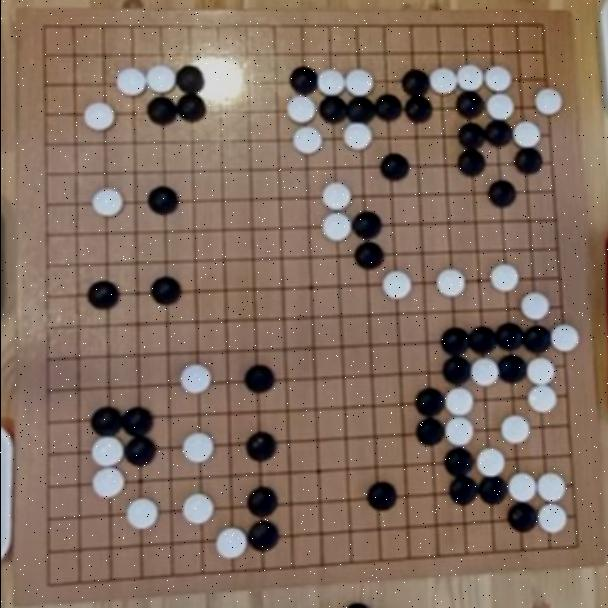corners: (27, 10, 70, 53), (28, 561, 72, 599), (550, 524, 592, 560), (516, 16, 562, 47)
